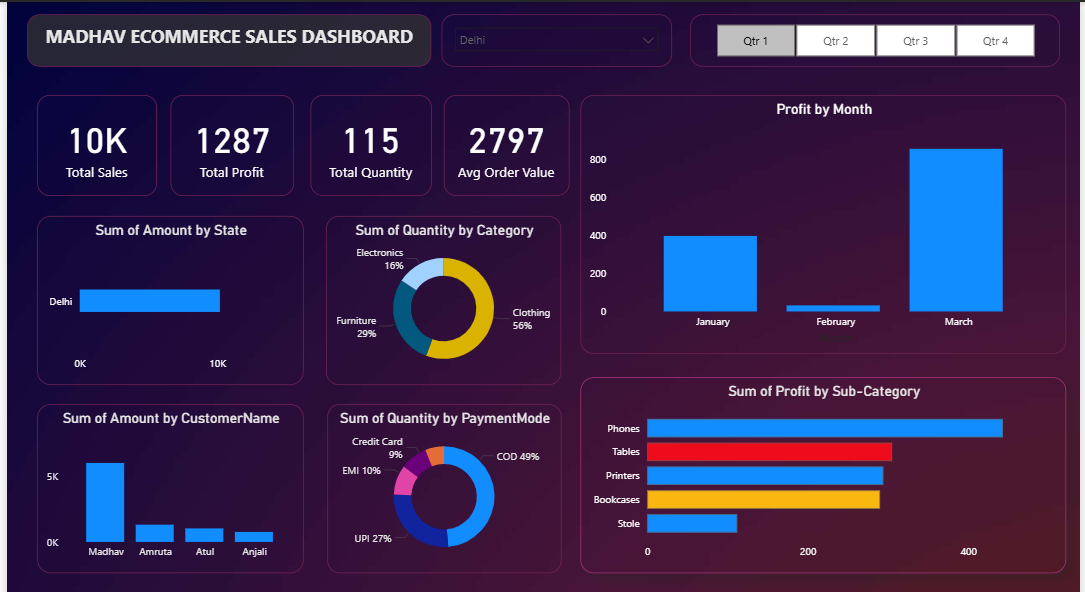

The page's visual inventory and layout, read from the dashboard file:
{"tool":"powerbi","page":{"name":"Page 1","canvas":[1280,720],"ordinal":0},"visuals":[{"type":"textbox","box":[24,14.7,482.3,62.8],"z":0},{"type":"barChart","fields":{"Category":["Details.Sub-Category"],"Y":["Sum(Details.Profit)"]},"box":[684.1,447.6,579.9,233.8],"z":1000},{"type":"barChart","fields":{"Category":["Orders.State"],"Y":["Sum(Details.Amount)"]},"box":[36.1,255.2,318,201.7],"z":2000},{"type":"columnChart","fields":{"Y":["Sum(Details.Amount)"],"Category":["Orders.CustomerName"]},"box":[36.1,479.7,318,201.7],"z":3000},{"type":"donutChart","fields":{"Y":["Sum(Details.Quantity)"],"Category":["Details.Category"]},"box":[380.8,255.2,280.6,201.7],"z":4000},{"type":"donutChart","fields":{"Y":["Sum(Details.Quantity)"],"Category":["Details.PaymentMode"]},"box":[382.1,479.7,279.2,201.7],"z":5000},{"type":"card","fields":{"Values":["Sum(Details.Amount)"]},"box":[36.1,110.9,143,120.2],"z":6000},{"type":"card","fields":{"Values":["Sum(Details.Profit)"]},"box":[195.1,110.9,147,120.2],"z":7000},{"type":"card","fields":{"Values":["Sum(Details.Quantity)"]},"box":[362.1,110.9,144.3,120.2],"z":8000},{"type":"card","fields":{"Values":["Sum(Details.AOV)"]},"box":[521.1,110.9,149.6,120.2],"z":9000},{"type":"slicer","fields":{"Values":["Orders.Order Date.Variation.Date Hierarchy.Quarter"]},"box":[815,14.7,440.9,62.8],"z":10000},{"type":"slicer","fields":{"Values":["Orders.State"]},"box":[518.4,14.7,275.2,62.8],"z":11000},{"type":"columnChart","title":"Profit by Month","fields":{"Y":["Sum(Details.Profit)"],"Category":["Orders.Order Date.Variation.Date Hierarchy.Month"]},"box":[684.1,110.9,579.9,308.6],"z":12000}]}

Visuals, with their boxes on the page's 1280x720 design canvas (x1, y1, x2, y2). These are canvas units, not pixel positions in the 1085x592 screenshot, which may show the page scaled, cropped or inside an application window:
textbox: x1=24 y1=15 x2=506 y2=78
barChart - Details.Sub-Category x Sum(Details.Profit): x1=684 y1=448 x2=1264 y2=681
barChart - Orders.State x Sum(Details.Amount): x1=36 y1=255 x2=354 y2=457
columnChart - Sum(Details.Amount) x Orders.CustomerName: x1=36 y1=480 x2=354 y2=681
donutChart - Sum(Details.Quantity) x Details.Category: x1=381 y1=255 x2=661 y2=457
donutChart - Sum(Details.Quantity) x Details.PaymentMode: x1=382 y1=480 x2=661 y2=681
card - Sum(Details.Amount): x1=36 y1=111 x2=179 y2=231
card - Sum(Details.Profit): x1=195 y1=111 x2=342 y2=231
card - Sum(Details.Quantity): x1=362 y1=111 x2=506 y2=231
card - Sum(Details.AOV): x1=521 y1=111 x2=671 y2=231
slicer - Orders.Order Date.Variation.Date Hierarchy.Quarter: x1=815 y1=15 x2=1256 y2=78
slicer - Orders.State: x1=518 y1=15 x2=794 y2=78
"Profit by Month" columnChart: x1=684 y1=111 x2=1264 y2=420
